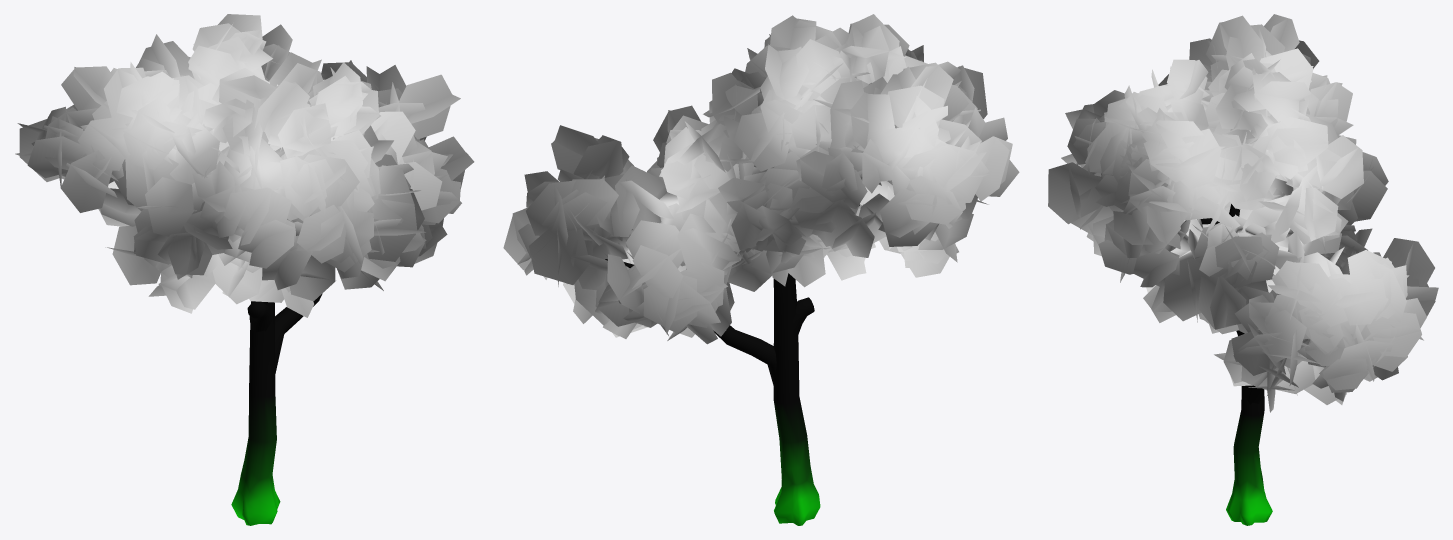
File: SM_OakTreeLarge3.FBX
3 views of the same model, side by side, from view 1: azimuth 30°, elevation 25°; view 2: azimuth 150°, elevation 25°; view 3: azimuth 270°, elevation 25° (orthographic). The views are drawn at different scales.
Visible parts, largest first — view 1: SM_OakTreeLarge3_LOD0; view 2: SM_OakTreeLarge3_LOD0; view 3: SM_OakTreeLarge3_LOD0.
Boxes of the visible parts, left/top/right/bottom form: SM_OakTreeLarge3_LOD0: left=15, top=14, right=474, bottom=525; SM_OakTreeLarge3_LOD0: left=503, top=14, right=1019, bottom=525; SM_OakTreeLarge3_LOD0: left=1048, top=14, right=1438, bottom=525.
Size of the model in its own units: 3305 by 2711 by 3456.
